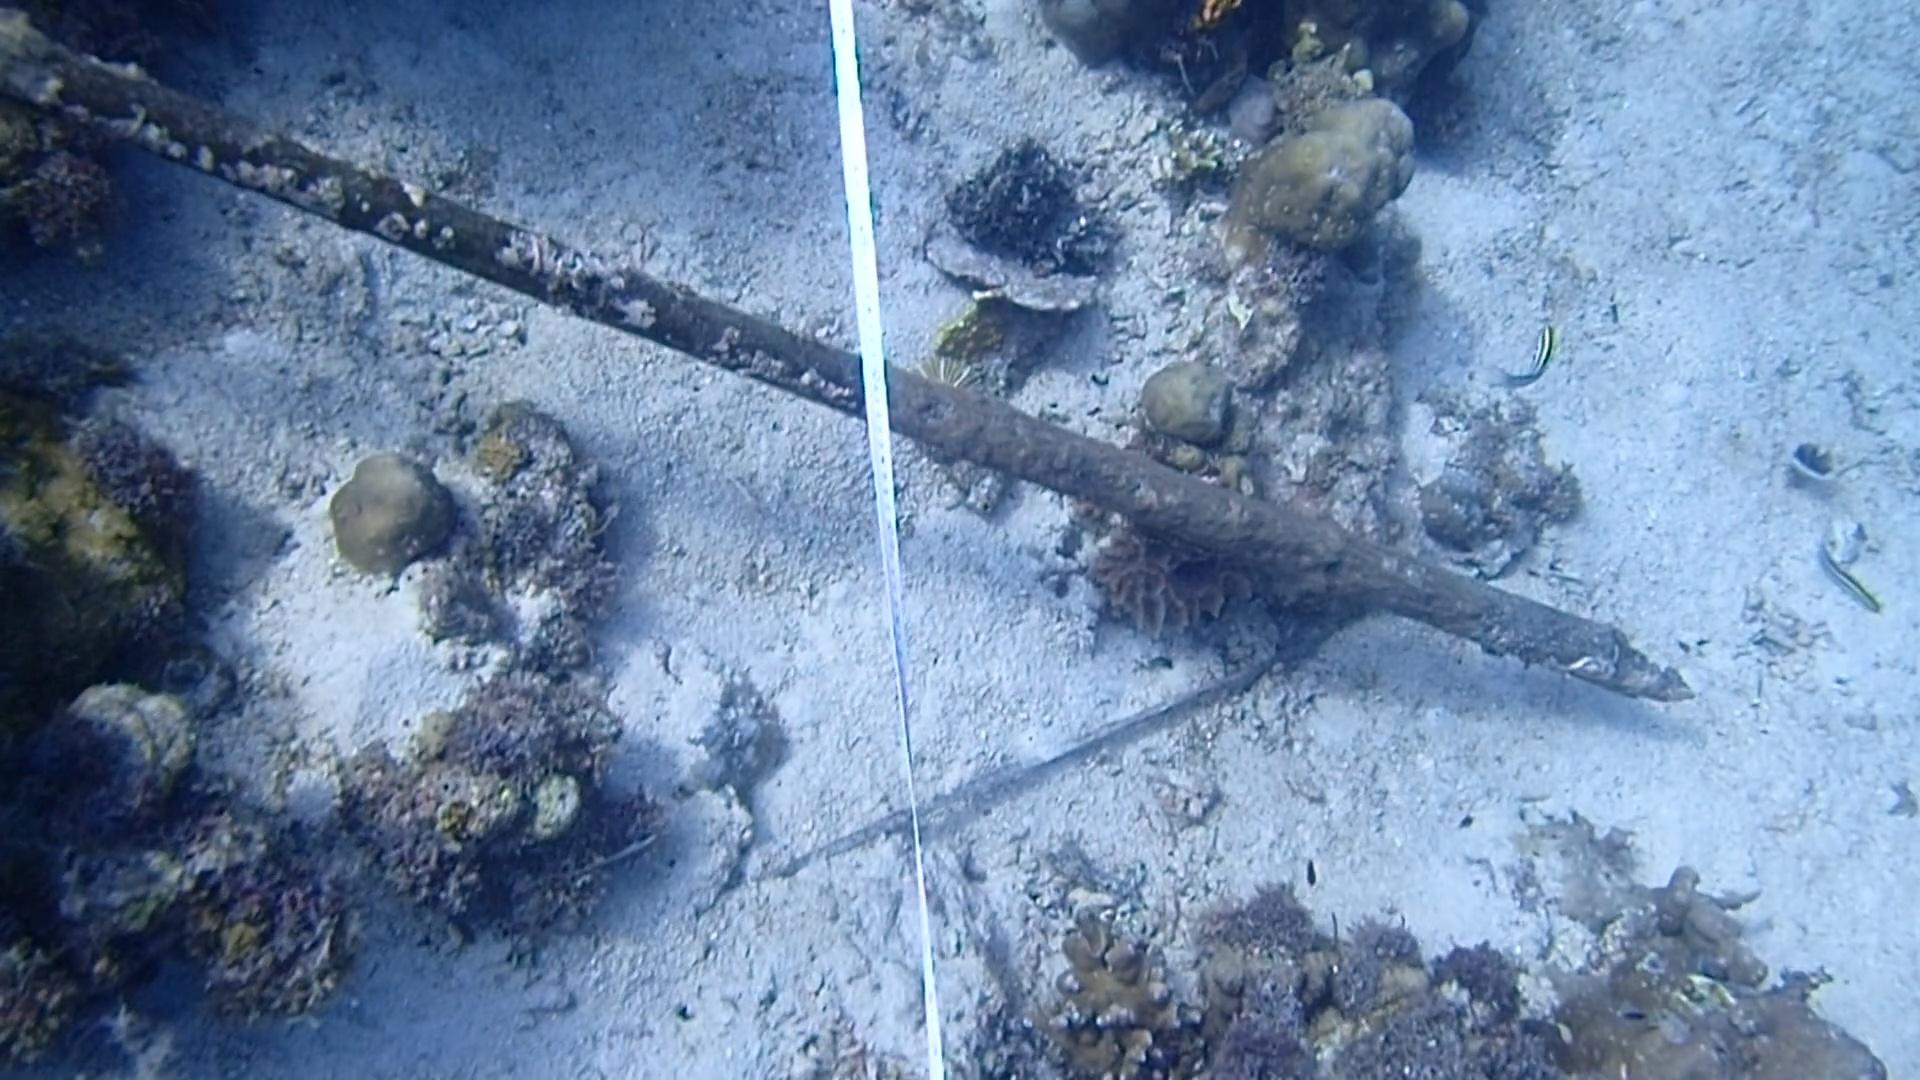Striped Fish: (1487, 310, 1585, 401), (1809, 537, 1886, 621)
